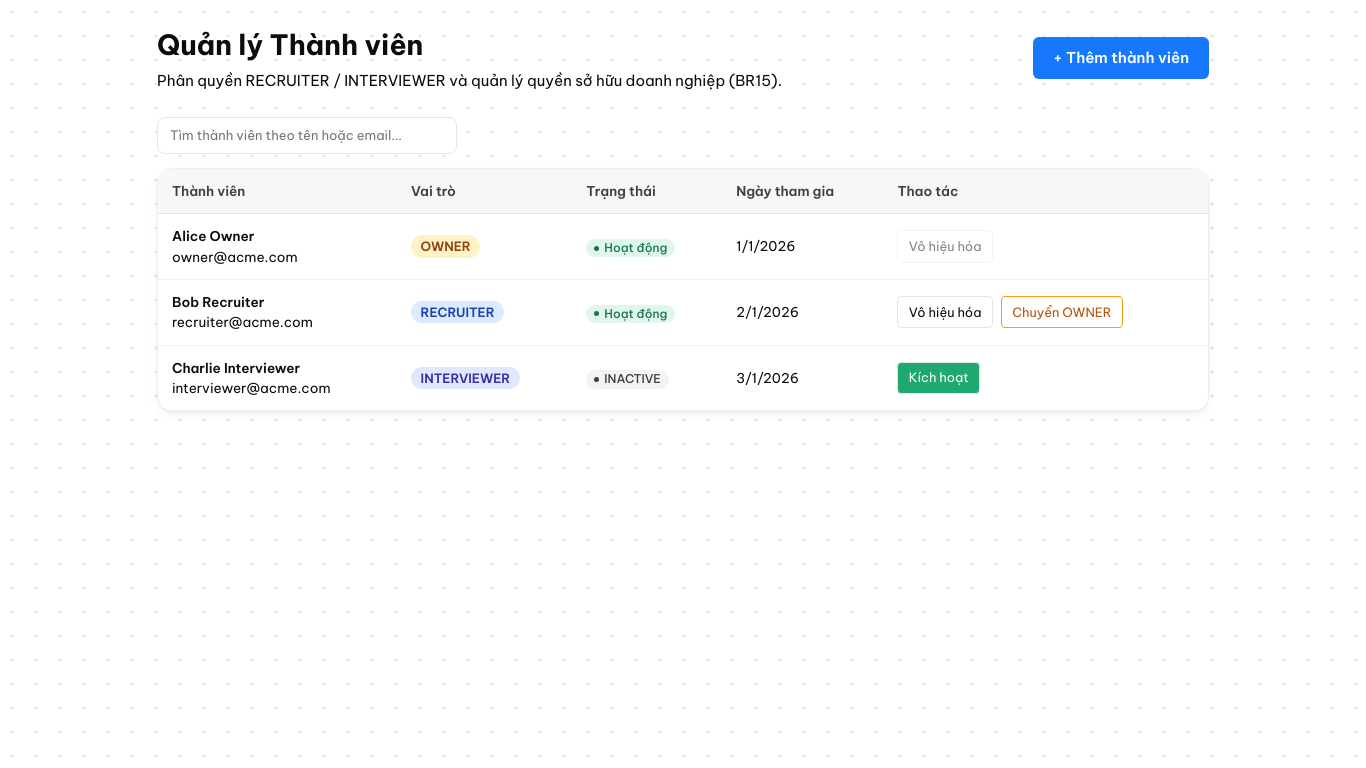
Test case: CompanyMembersPage (UI16) › opens transfer OWNER modal and confirms transfer (BR15)
Expected: the text "Bob Recruiter" is shown, [172,293,264,311]
Click the button "Chuyển OWNER" at (1062, 312), box [1001,296,1123,328]
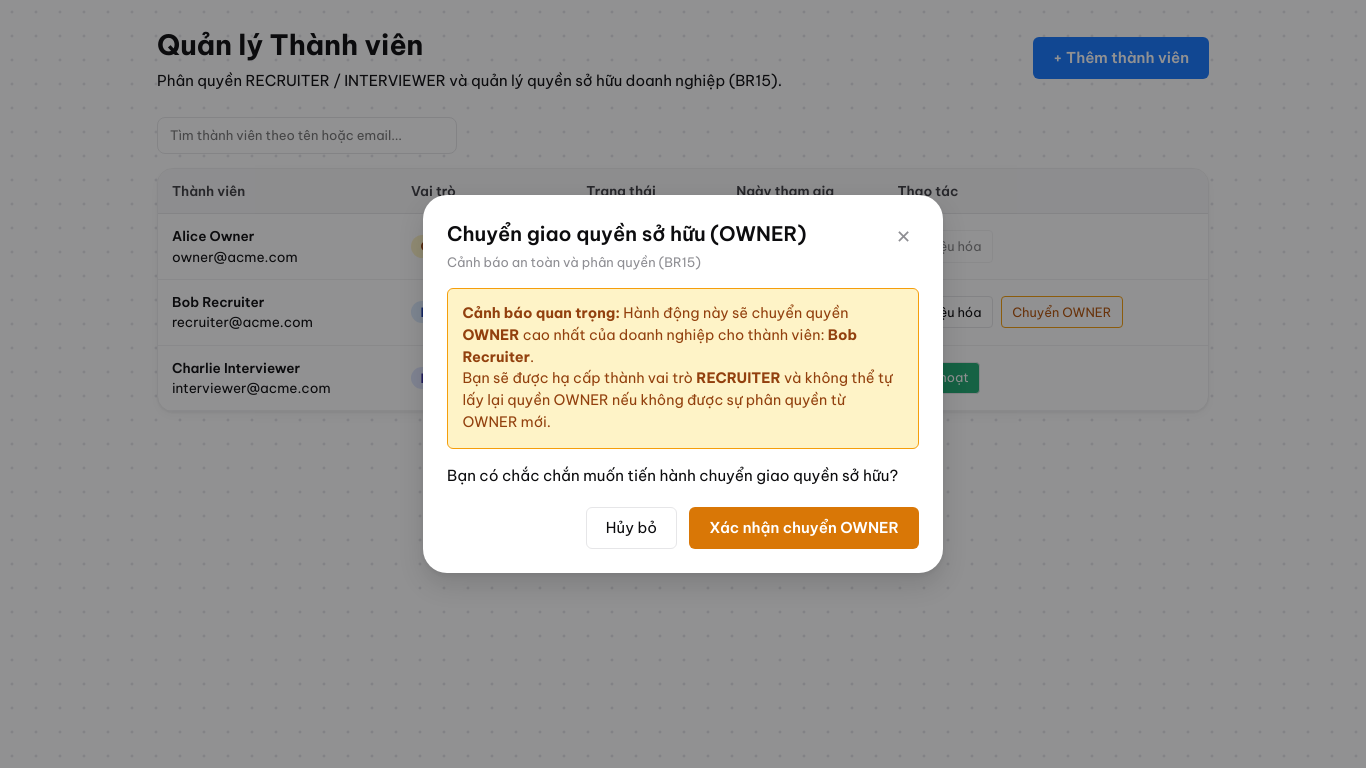
Now the element with test id "transfer-owner-dialog-content" is shown, box [447,288,919,549]
Now the text "Hành động này sẽ chuyển quyền" is shown, box [620,304,848,322]
Click the button with test id "confirm-transfer-owner-btn" at (804, 528), box [689,507,919,549]
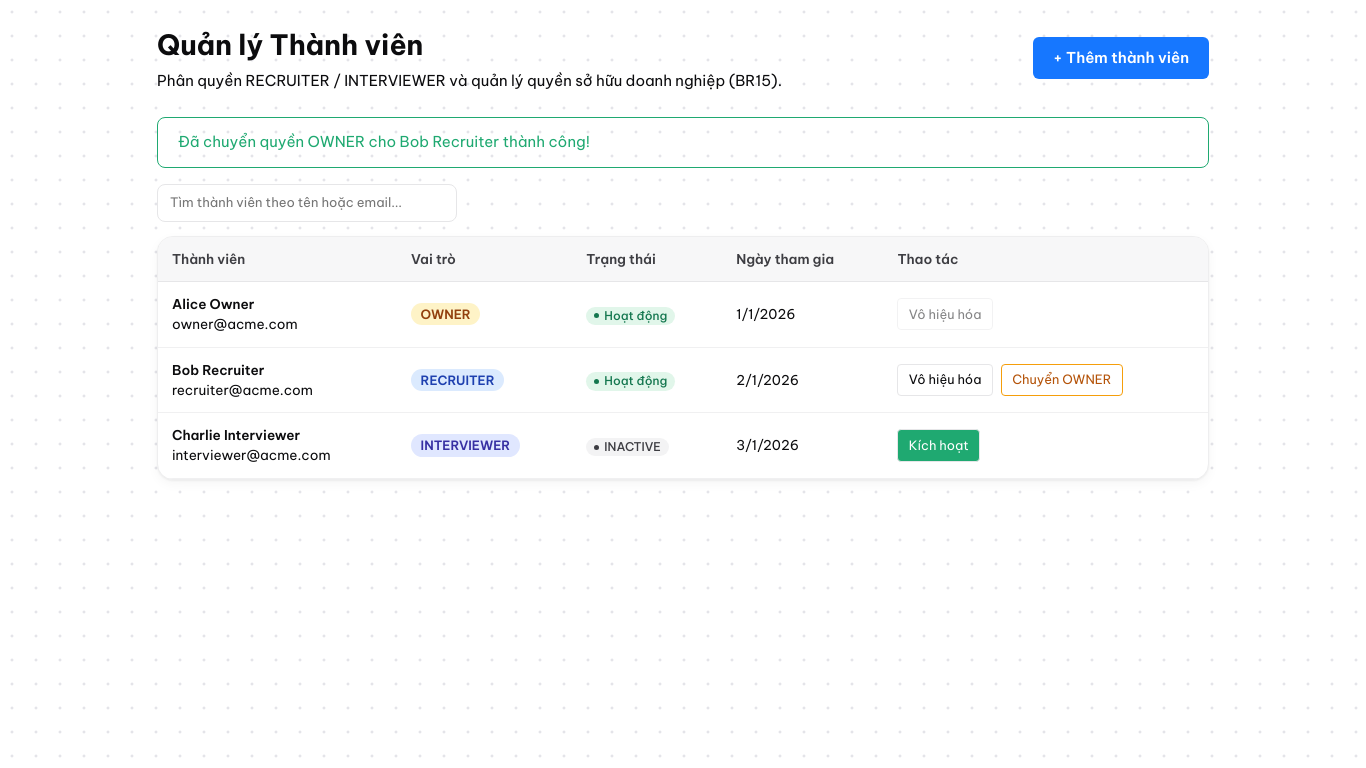
Now the text "Đã chuyển quyền OWNER cho Bob Recruiter thành công!" is shown, box [157,116,1209,168]
